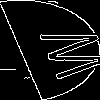W: (24, 25, 100, 83)
